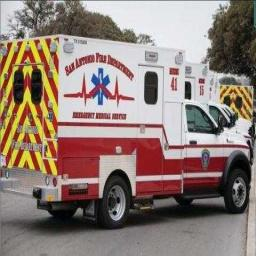ambulance: (0, 35, 250, 227), (185, 62, 253, 162), (210, 72, 254, 139)
